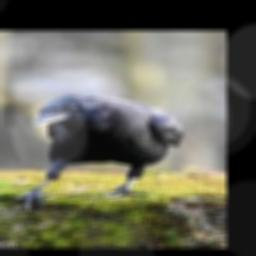Crow: (8, 95, 185, 210)
